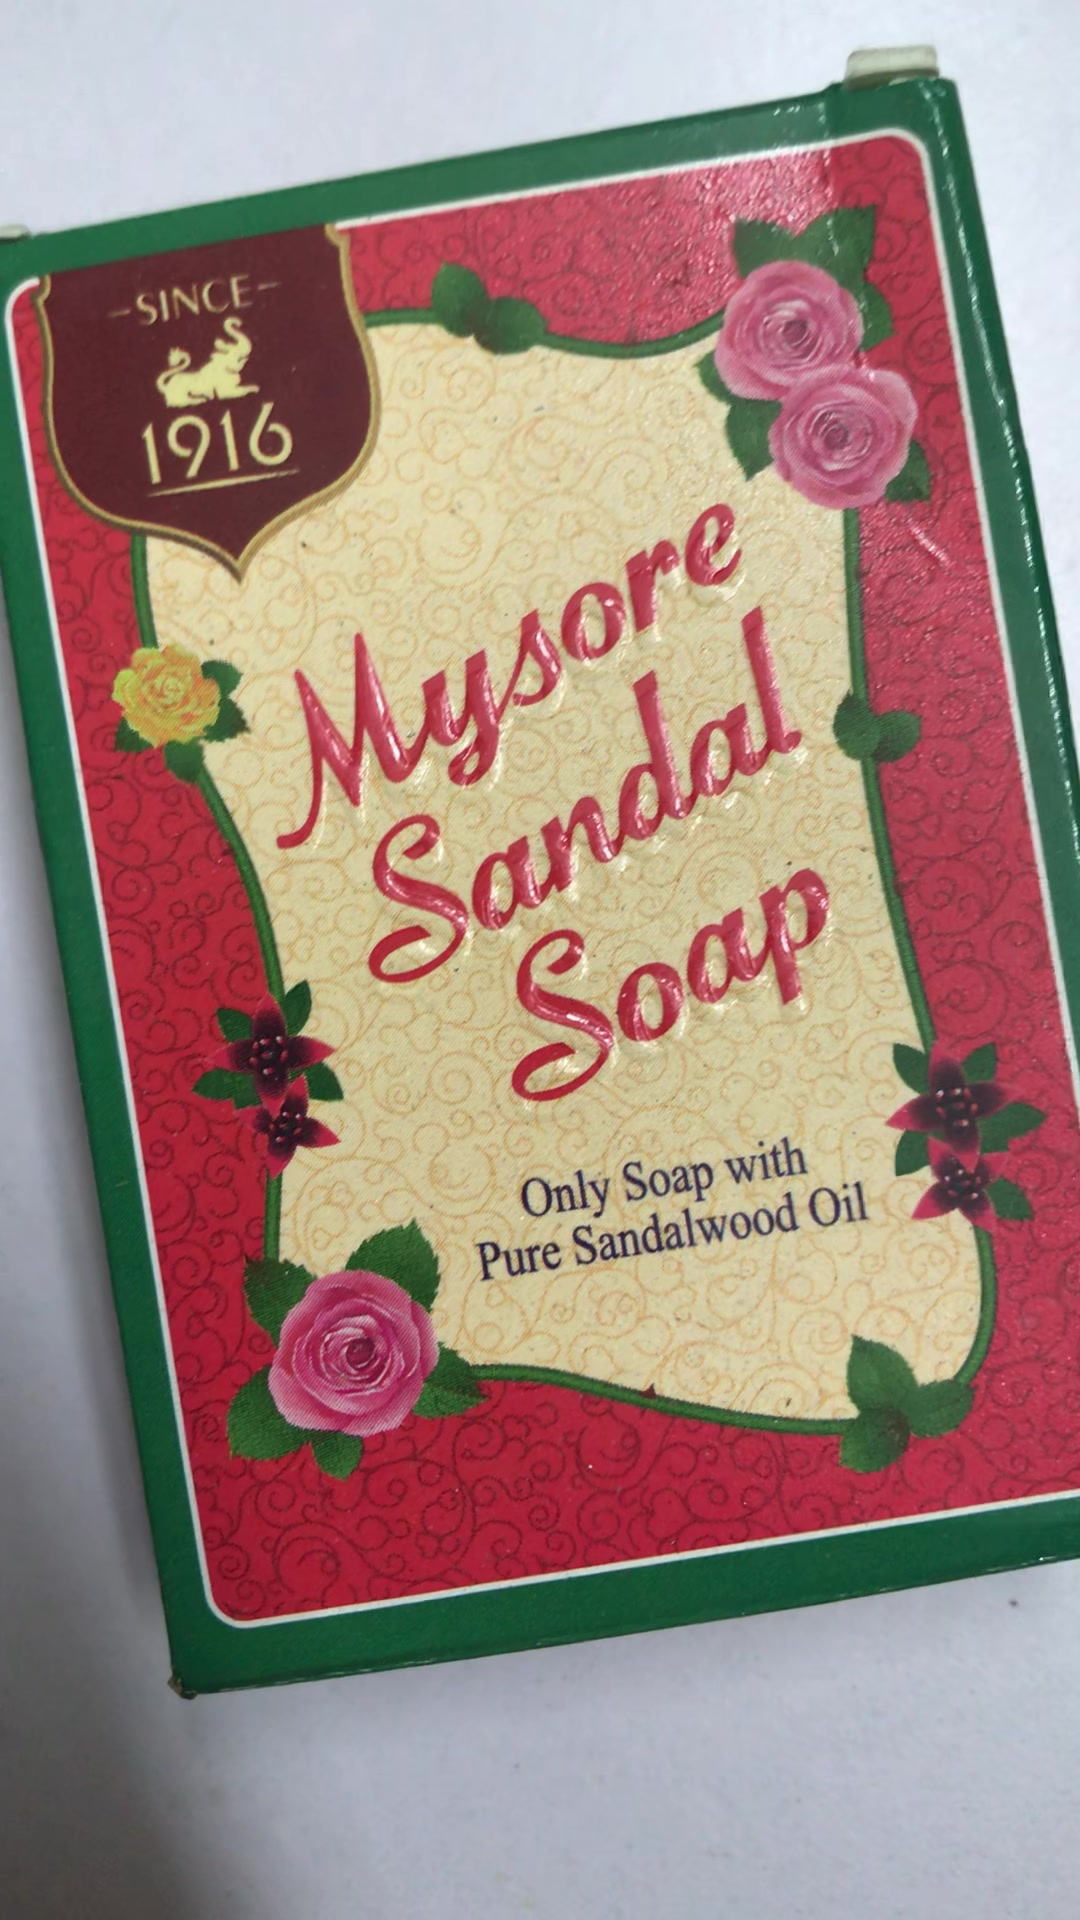mysore sandal soap: (1, 63, 1069, 1692)
